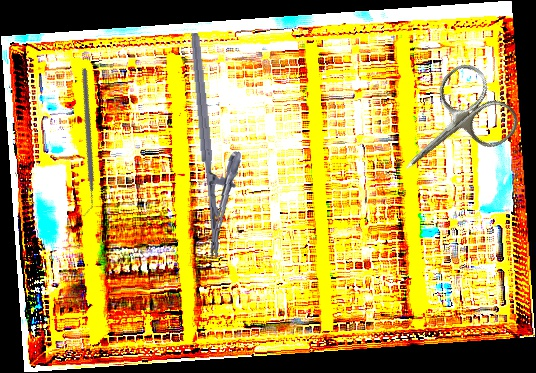Chopper: (14, 66, 155, 218)
Iris Scissors: (376, 56, 526, 202)
Needle Holder: (189, 29, 251, 259)
